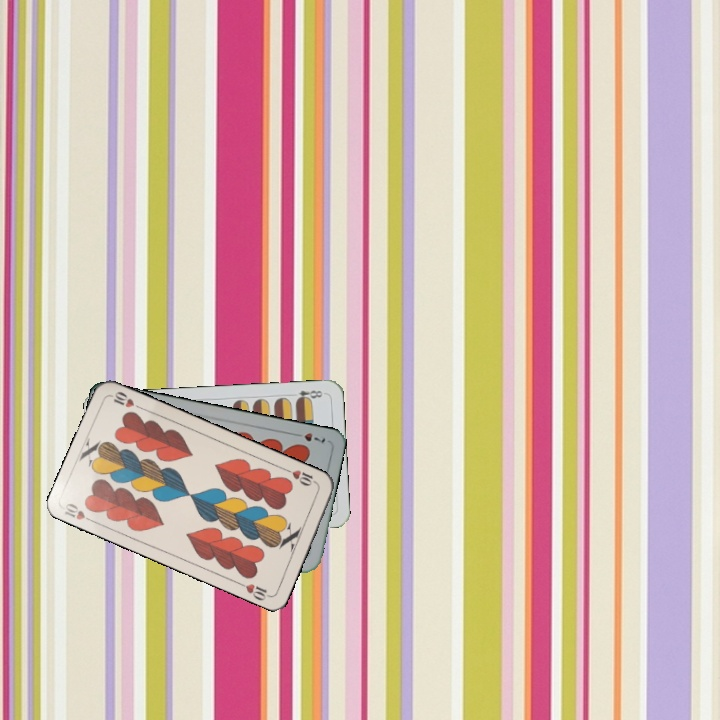E8: (286, 386, 327, 404)
H10: (60, 499, 98, 526), (281, 465, 320, 489)
H7: (289, 428, 328, 445)
